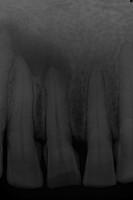Furcation Involvement: (0, 18, 74, 88)
